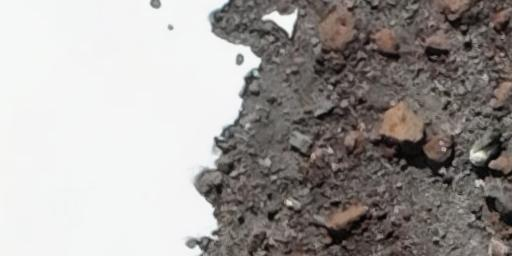skua: (459, 113, 512, 183)
